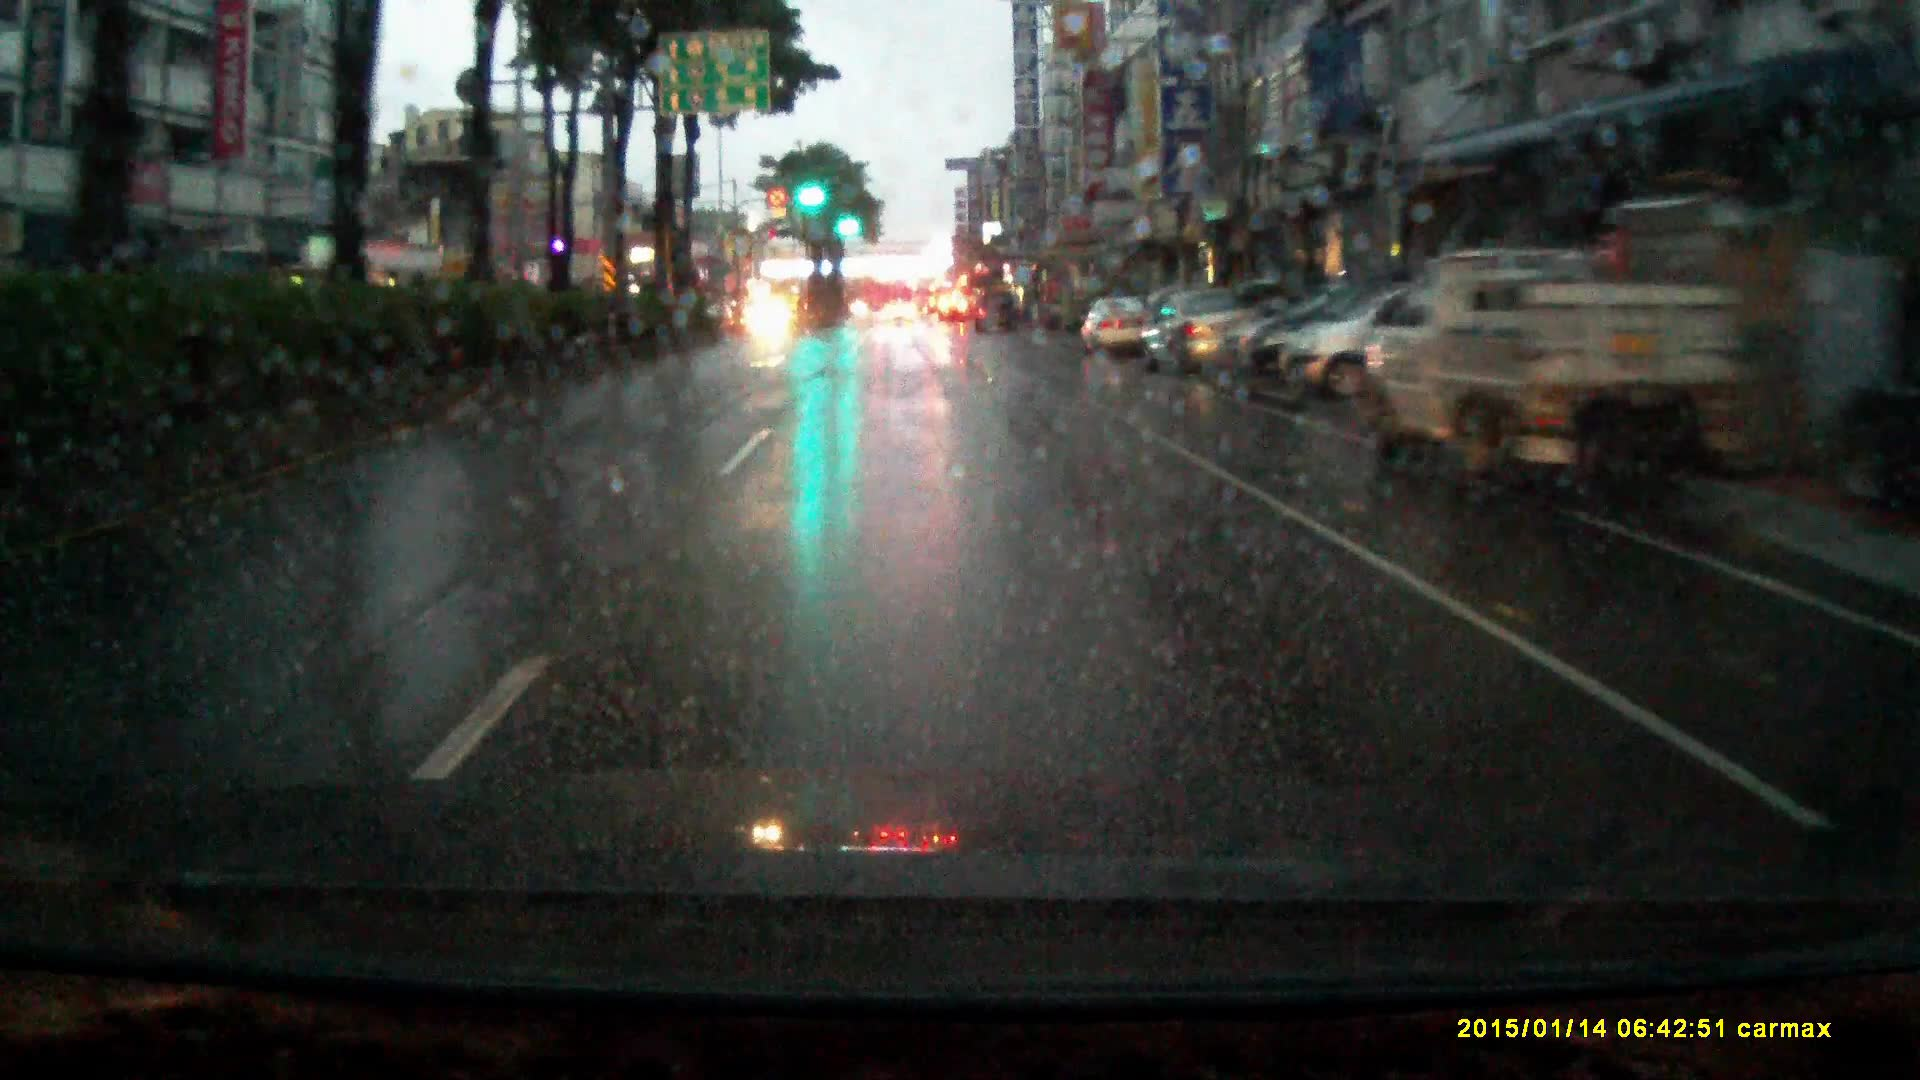vehicle: (1353, 252, 1759, 546), (1280, 291, 1428, 404), (1141, 295, 1278, 388), (1084, 303, 1150, 367), (973, 295, 1025, 340), (746, 301, 799, 343), (913, 284, 939, 319), (939, 301, 968, 327), (886, 305, 916, 324)
